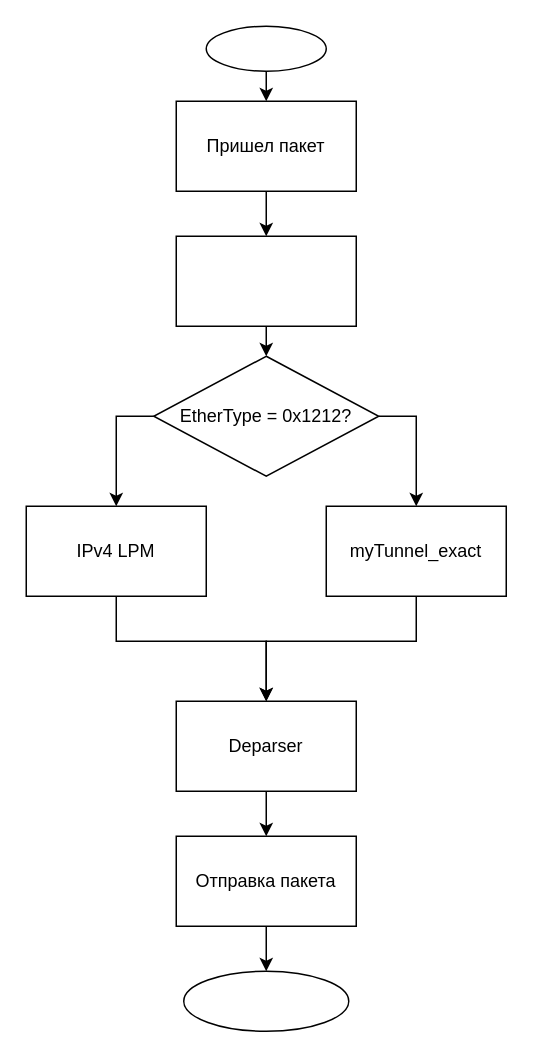
Some shapes in this 533 by 1058 pixel diagram are drawn without their labels. Here are the shapes that lost their labels. From the top down, the centre of each, then its label:
At point 265,48: "start".
At point 265,280: "Parse Ethernet".
At point 265,1000: "End".
